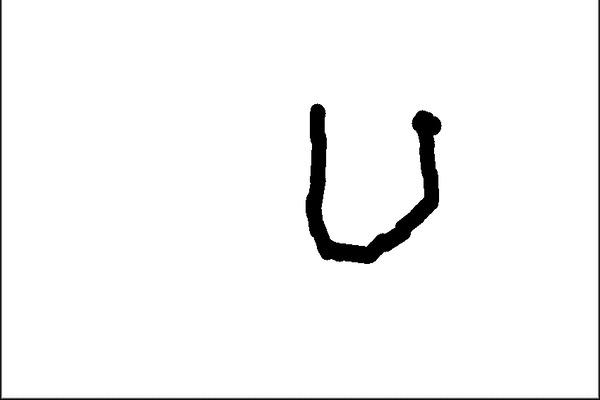U: (292, 93, 448, 265)
